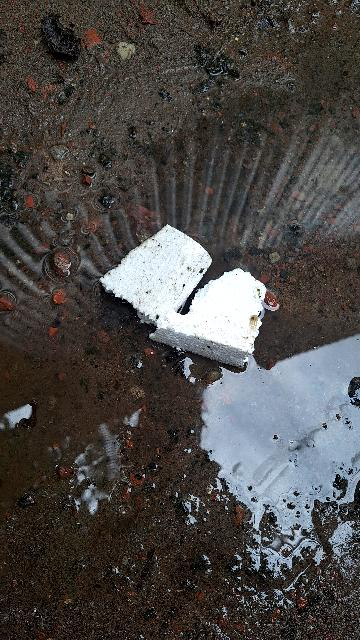cocksheet: (81, 213, 292, 394)
